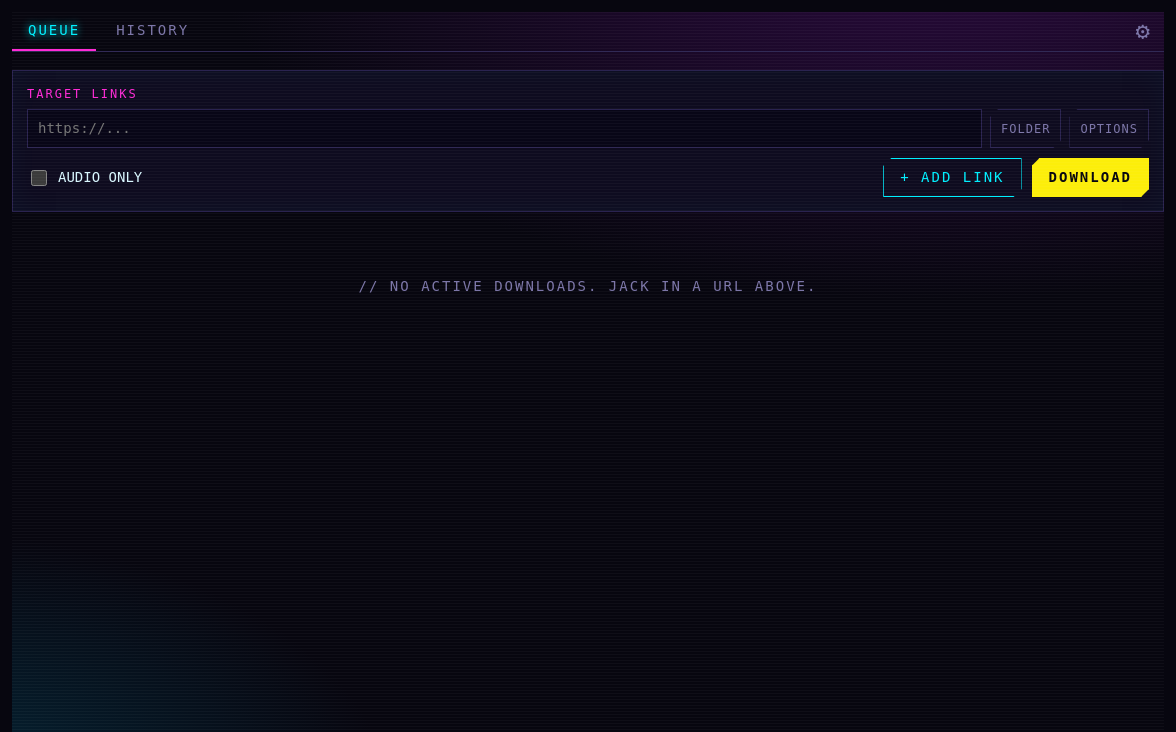
Test case: DownloadsPanel › shows the history in place of the queue and keeps the choice in the store
Click the button "HISTORY" at (153,32), box 100,12 -> 205,51
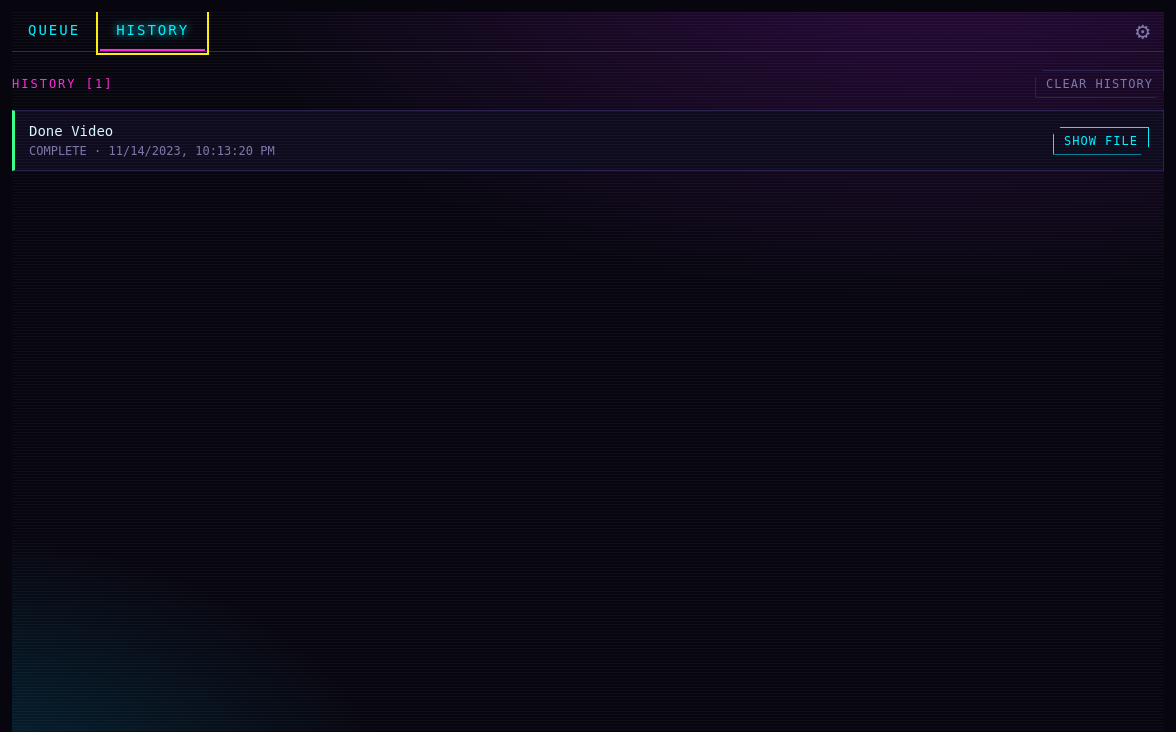
expect the text "Done Video" is shown: met, box 29,123 -> 113,139
expect the text "HISTORY [1]" is shown: met, box 12,75 -> 114,93
